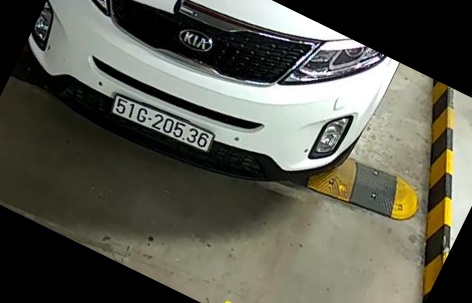plate: (109, 93, 213, 160)
